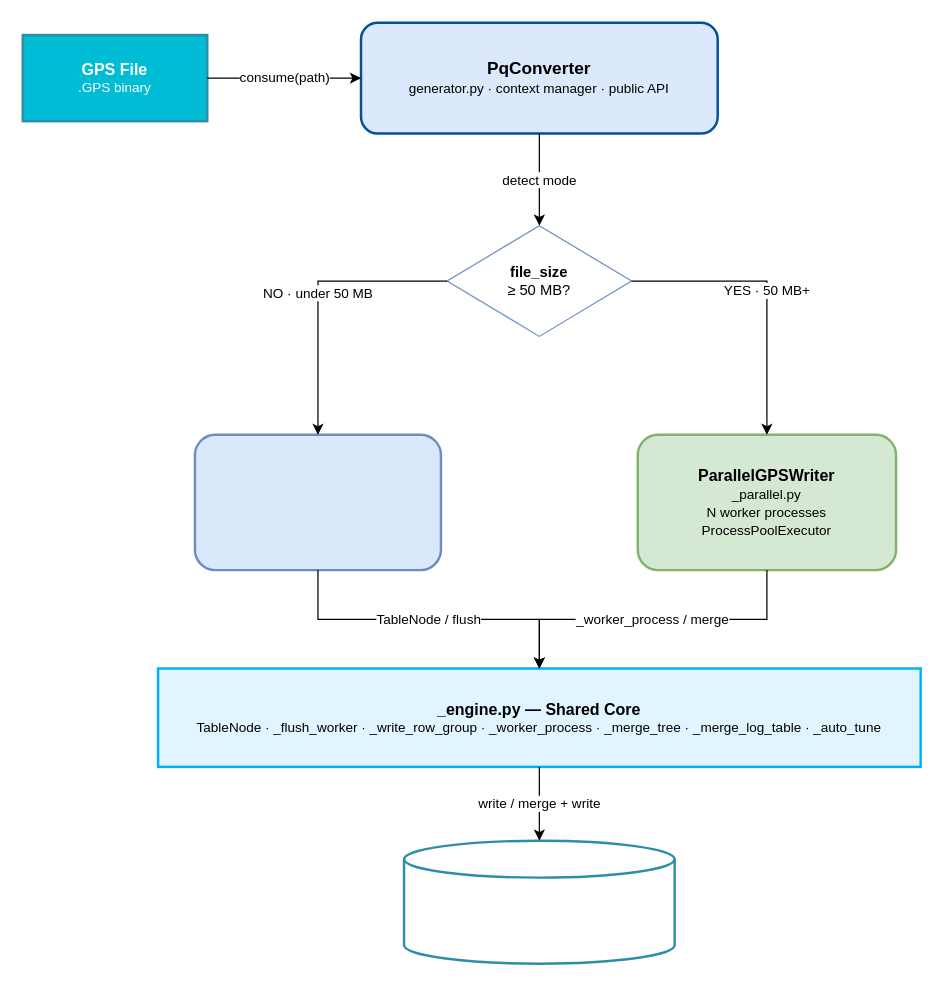
The diagram is 942 pixels wide and 985 high, and some of its shapes have lost their labels. Each missing label, with the centre of its shape:
"GPSWriter _standard.py 1 background flush thread Single-process" goes at (x=317, y=502).
"Parquet Output {db_name}.parquet BESTPOS/ · RANGE/ _metadata.json" goes at (x=538, y=901).
